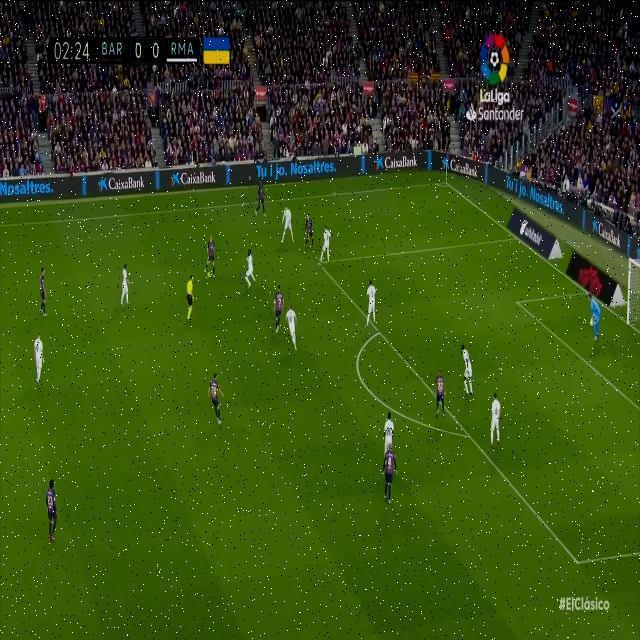goalkeeper: (580, 275, 614, 368)
player: (39, 458, 73, 557), (485, 368, 511, 476), (29, 324, 61, 409), (354, 267, 390, 338), (207, 368, 237, 439), (117, 253, 148, 318), (430, 362, 458, 433), (30, 259, 61, 322), (456, 338, 482, 407), (283, 293, 309, 360), (242, 227, 266, 298), (278, 194, 302, 261), (204, 228, 230, 289), (384, 441, 404, 516), (299, 203, 323, 257), (250, 166, 272, 218), (273, 284, 289, 344), (319, 211, 335, 265)
referee: (180, 265, 202, 340)
